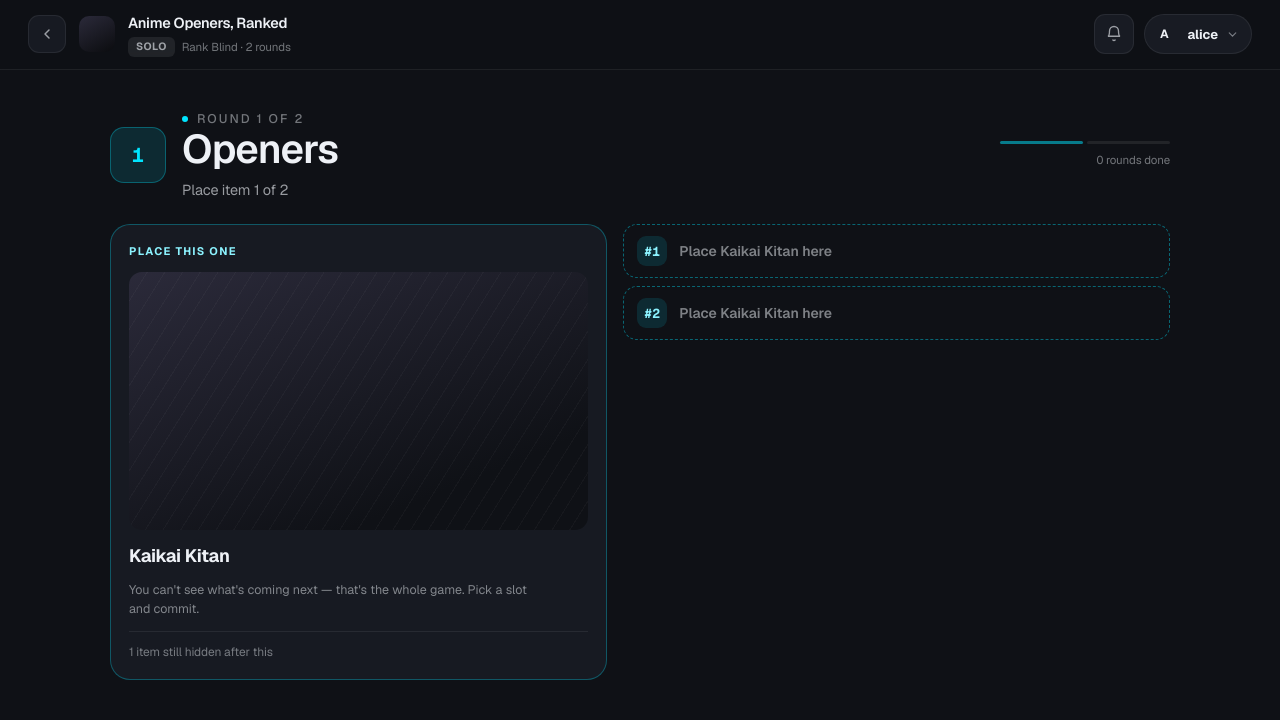
Test case: RankPlayScreen › places the current item into the slot the player clicks, out of numeric order
Expected: the text "Kaikai Kitan" is shown, [129, 544, 230, 567]
Note: Place the first item ("Kaikai Kitan") into slot #2, not #1.
Click the text "#2" at (652, 313), box [637, 298, 667, 328]
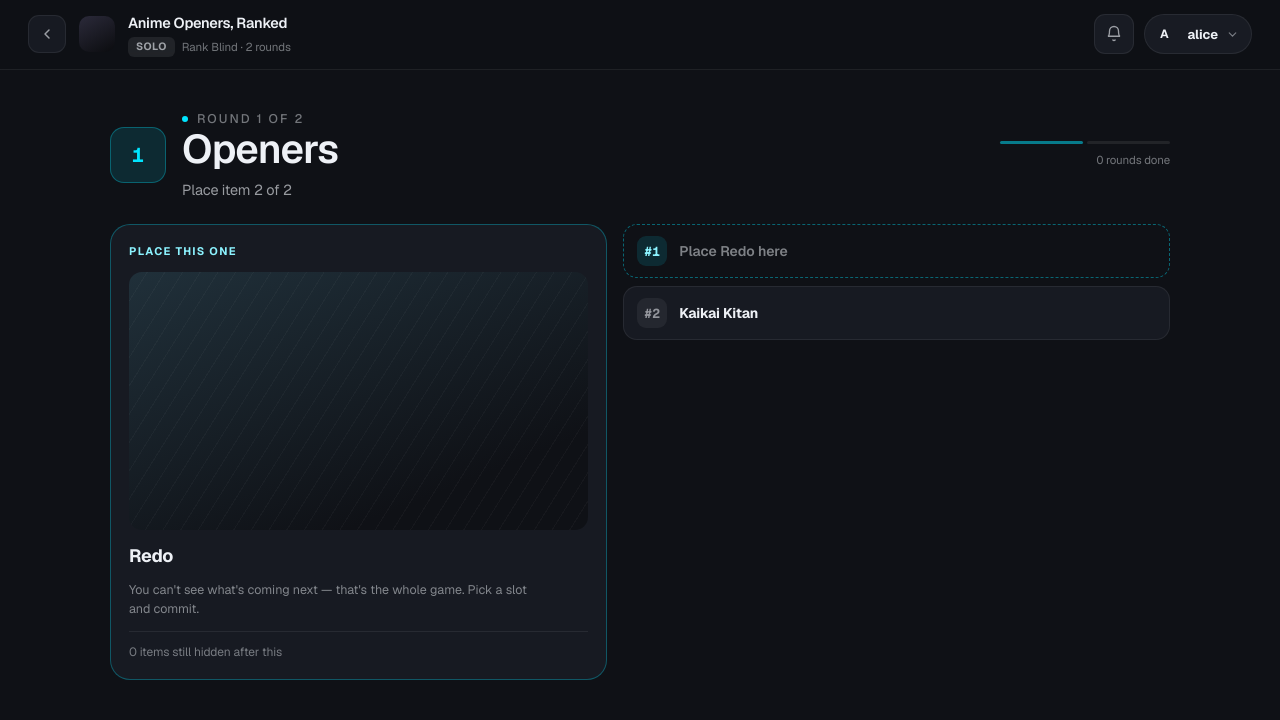
Expected: the button "#2 Kaikai Kitan" is shown, [623, 286, 1170, 340]
Expected: the text "Redo" is shown, [129, 544, 173, 567]
